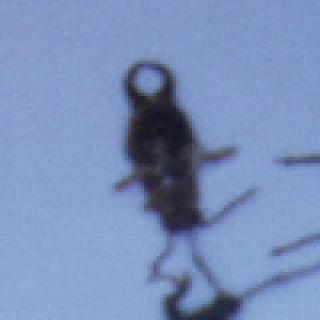earwig: (111, 52, 260, 302)
